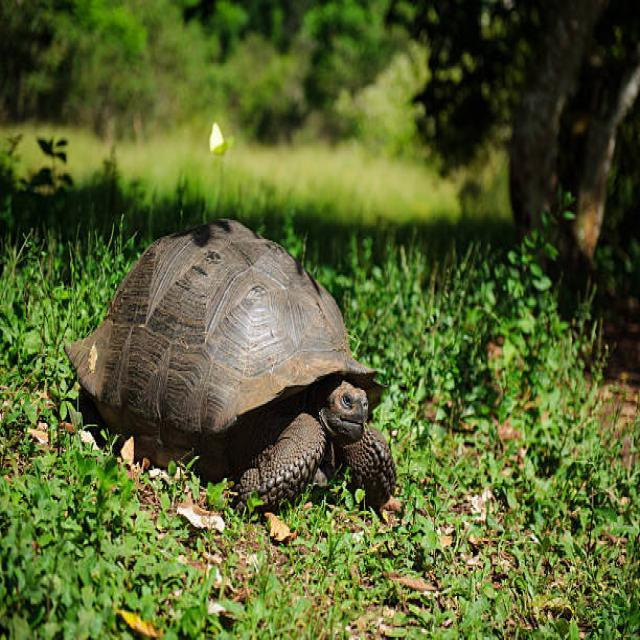tortoise: (70, 215, 412, 533)
